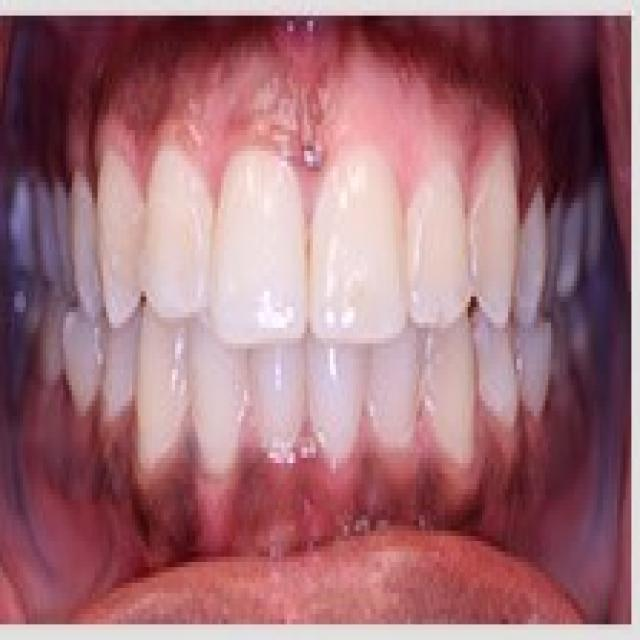tooth: (316, 146, 408, 359), (218, 151, 307, 359), (135, 151, 215, 328), (408, 317, 493, 468), (407, 135, 468, 338), (135, 323, 192, 463), (474, 141, 514, 312), (192, 333, 238, 468), (362, 354, 424, 453), (98, 151, 140, 296), (310, 359, 359, 463), (258, 349, 296, 458), (69, 177, 100, 291), (517, 198, 545, 317), (63, 312, 101, 396), (100, 328, 138, 406)
